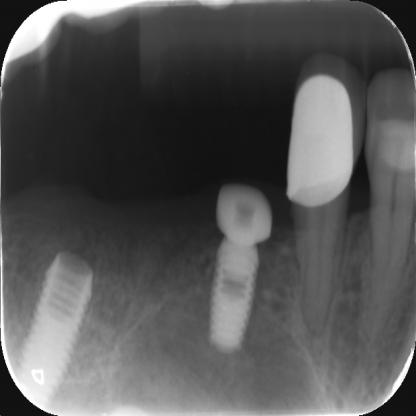Bicon: (14, 250, 96, 402), (207, 241, 262, 350)
